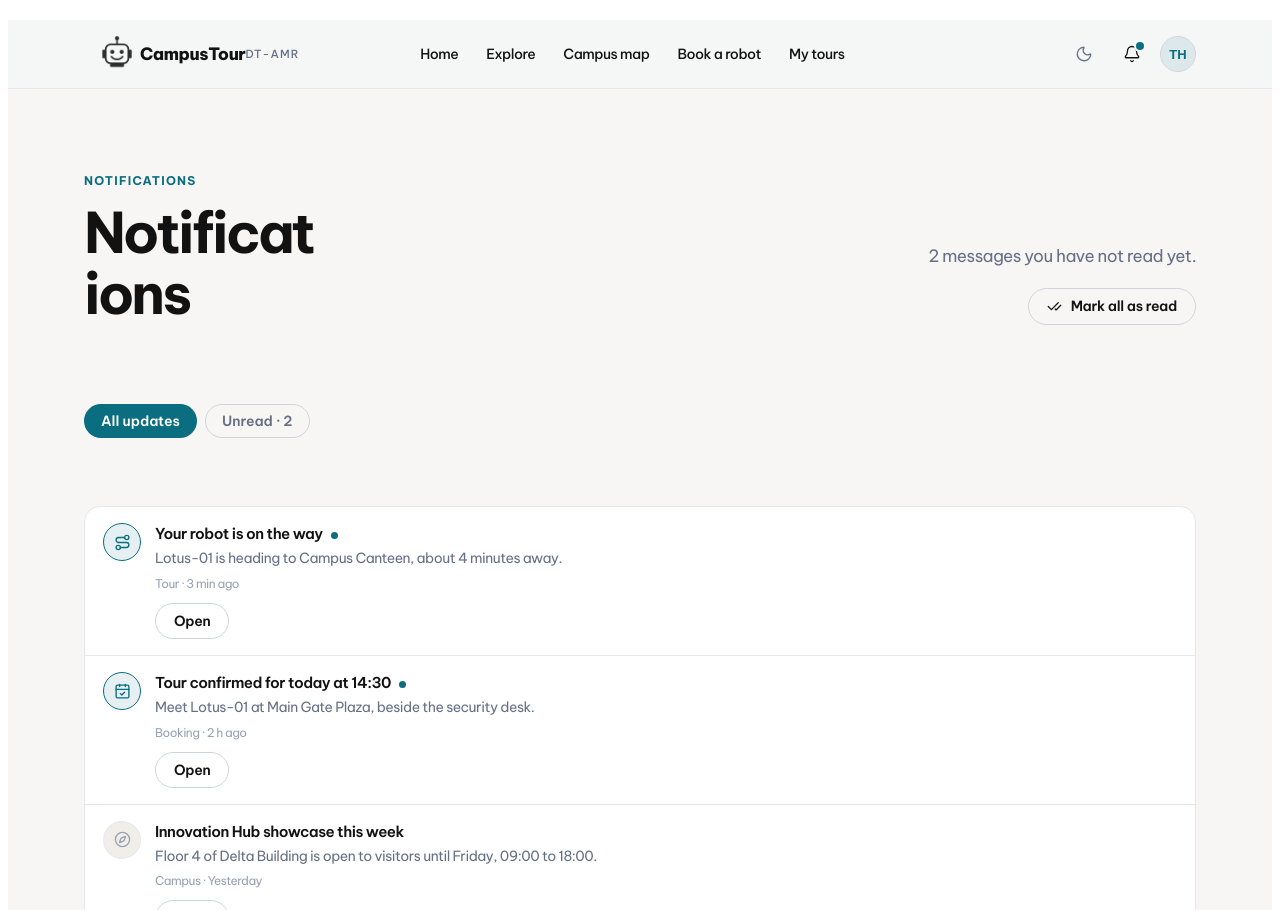
Test: visitor journeys › marks unread notifications as read and keeps history accessible
What coordinates should you click on to do the following:
click the button "Mark all as read"
I would click on:
 (1112, 306)
Its box is [1028, 288, 1196, 325].
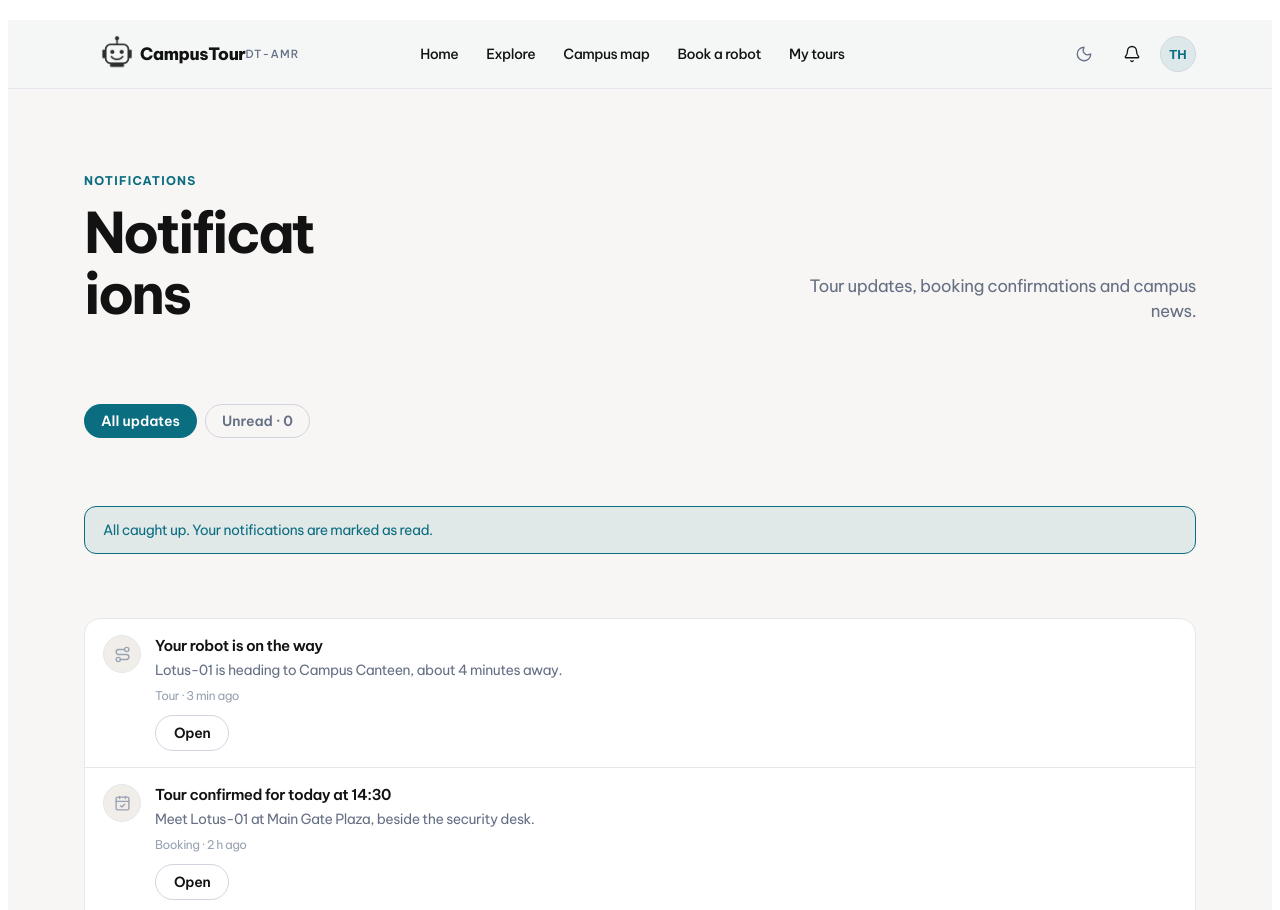
Result: the text "All caught up. Your notifications are marked as read." is shown at [84, 506, 1196, 554]
What coordinates should you click on to do the following:
click the button "Unread · 0"
I would click on:
 (257, 421)
Its box is [205, 404, 310, 438].
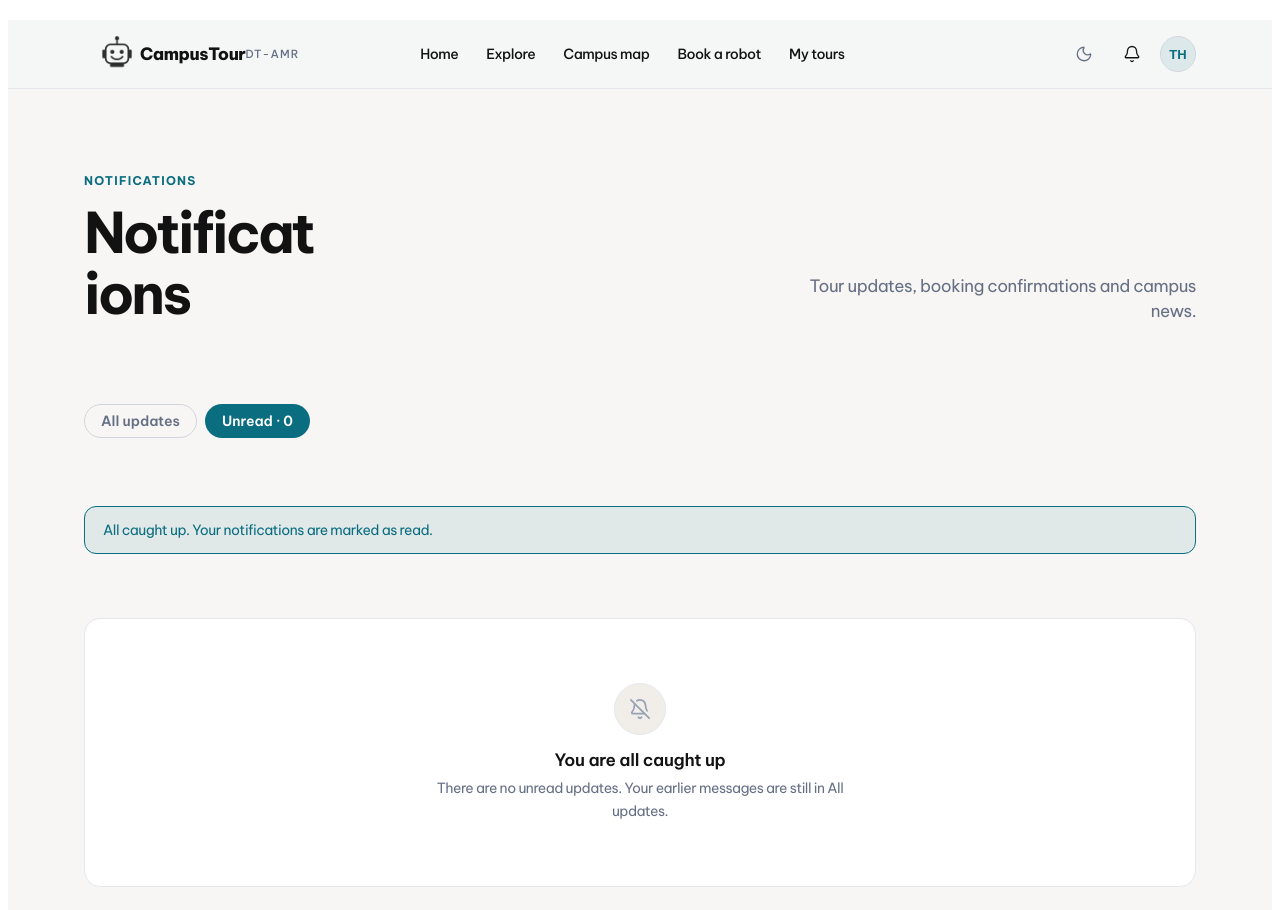
Result: the text "You are all caught up" is shown at [554, 749, 726, 771]
What coordinates should you click on to do the following:
click the button "All updates"
I would click on:
 (140, 421)
Its box is [84, 404, 197, 438].
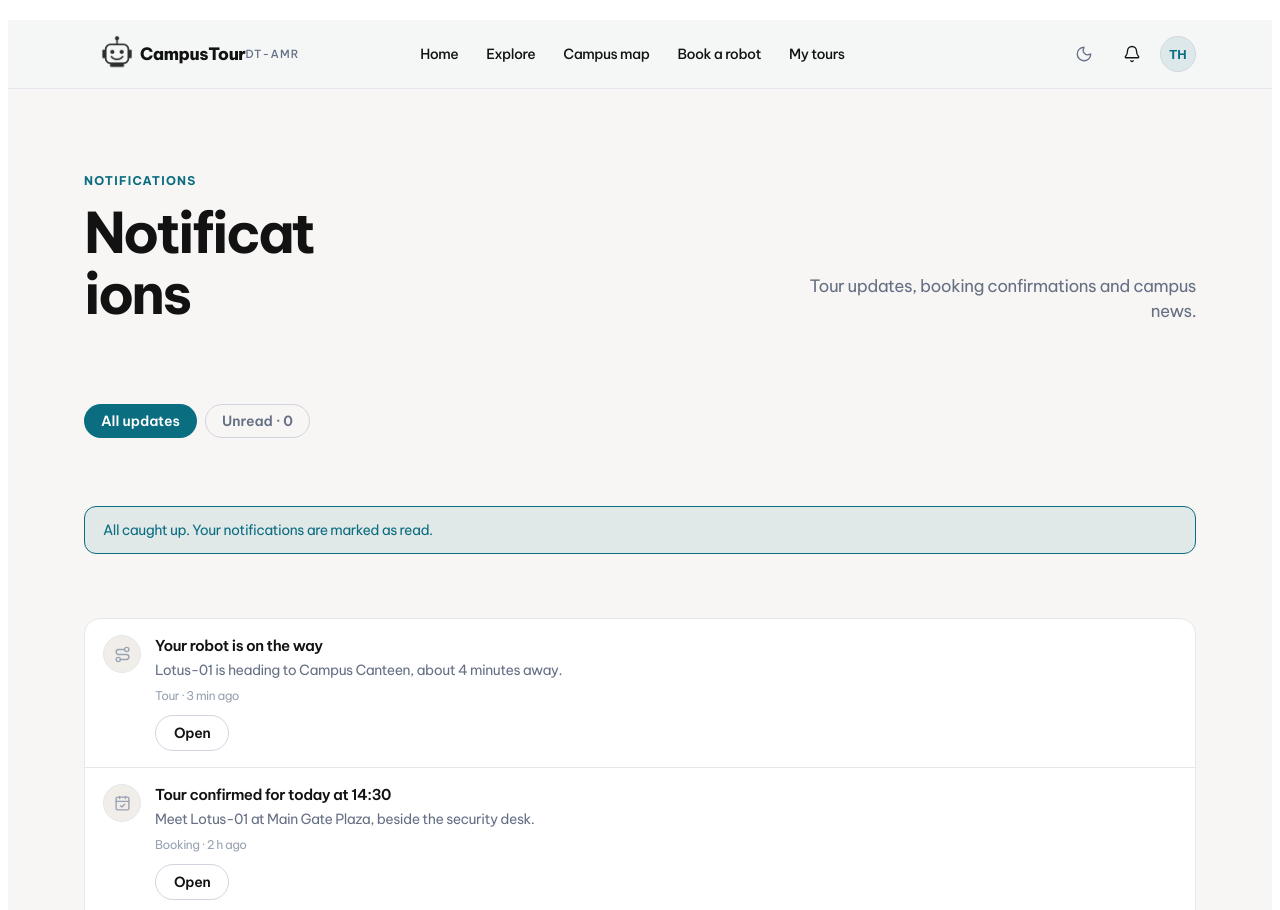
Result: the text "Your robot is on the way" is shown at [155, 636, 323, 655]
